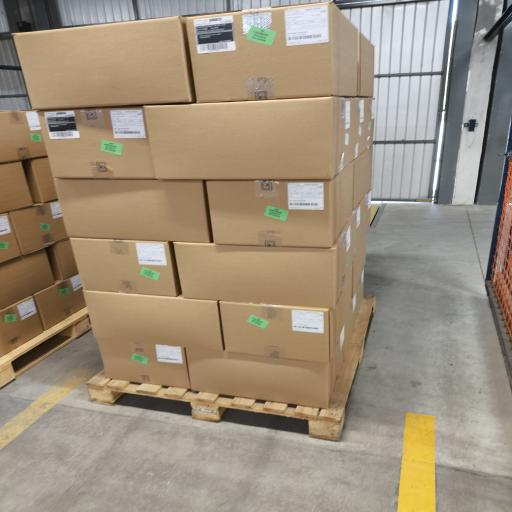pallet: (88, 296, 375, 440), (0, 308, 90, 387)
